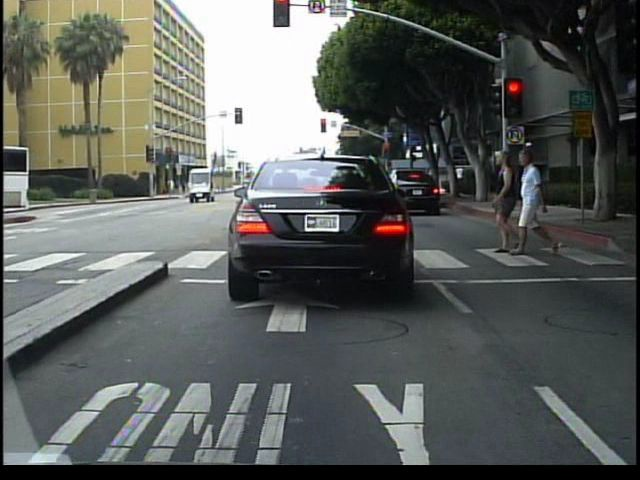person: (521, 139, 564, 262), (488, 150, 520, 258)
